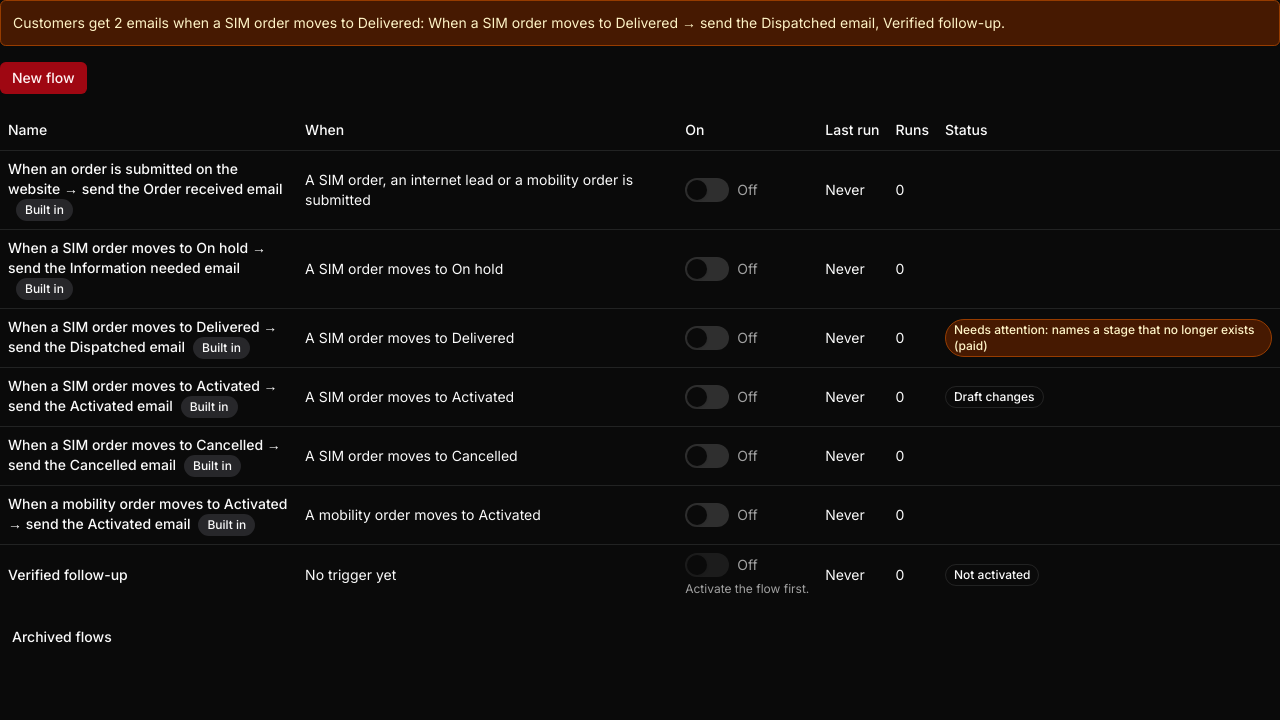
Test case: SiteAutomations › says why a new flow was refused at the limit
Step 1. Click the button "New flow" → (43,78), box [0,62,87,94]
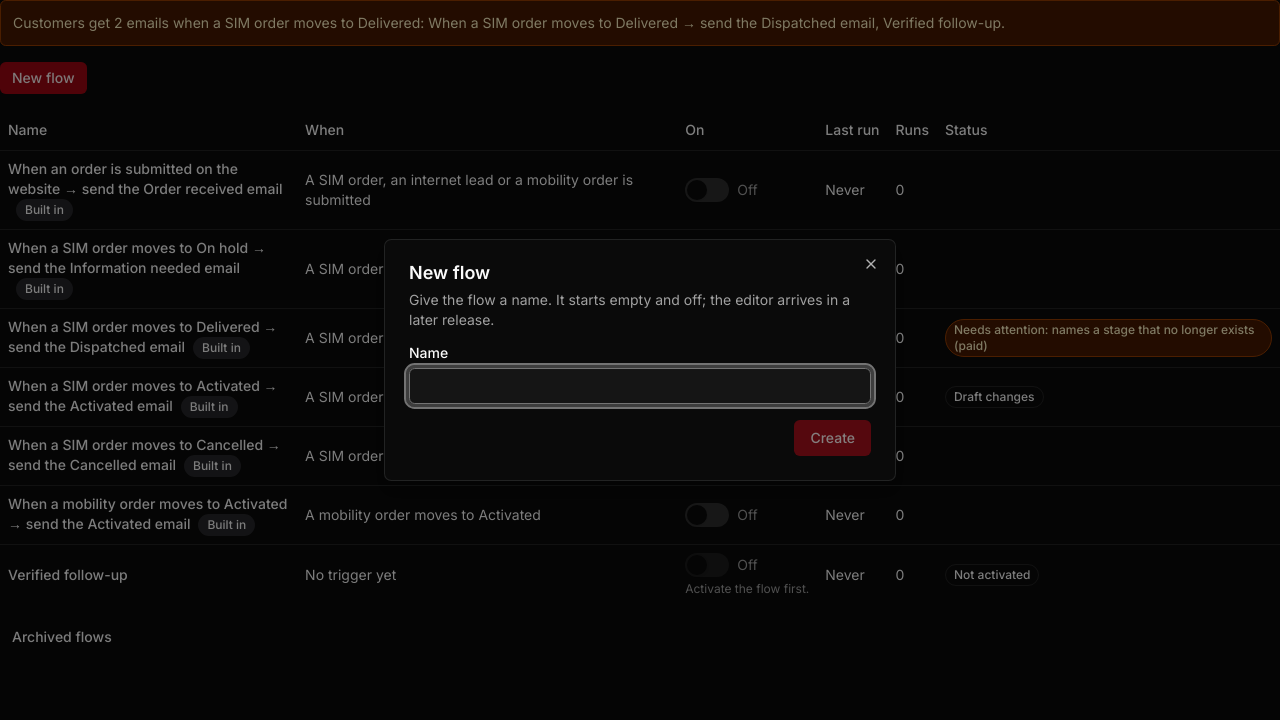
Step 2. Type "One more" into the field labelled "Name" → (640,386), box [409,368,871,404]
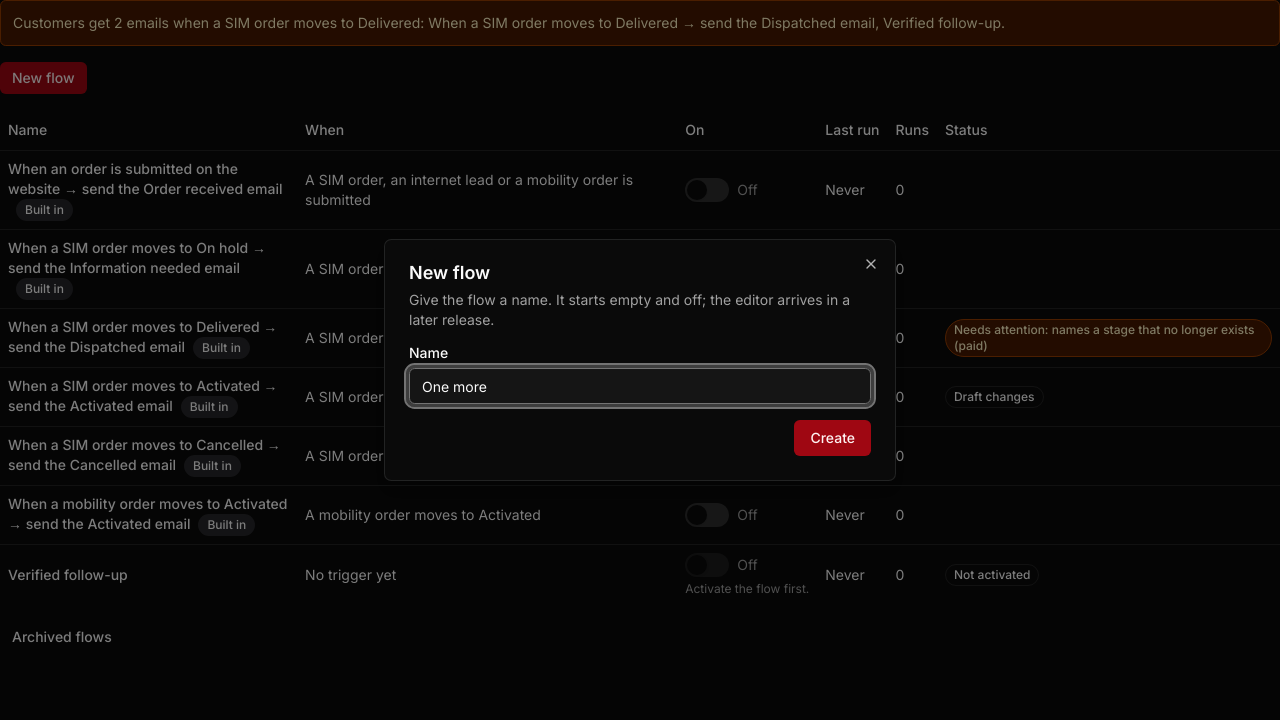
Step 3. Click the button "Create" → (833,438), box [794,420,871,456]
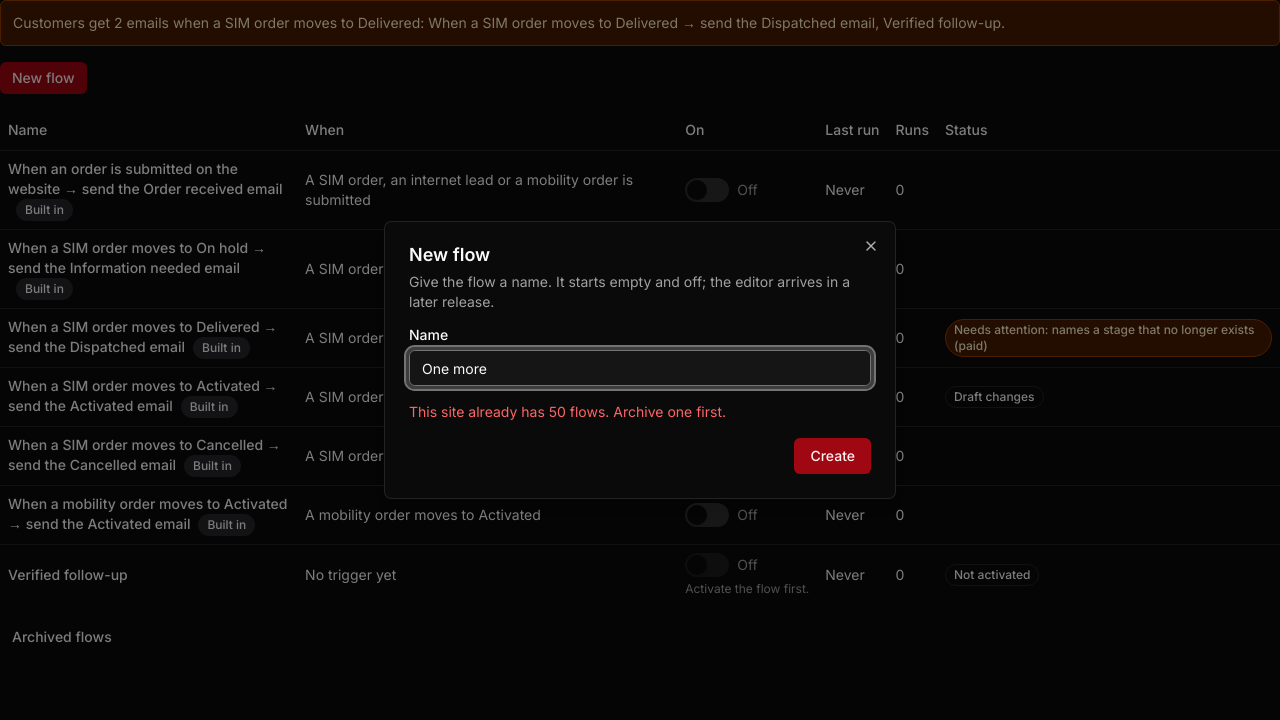
Expected: the message reads "This site already has 50 flows. Archive one first.", [409,403,726,420]
